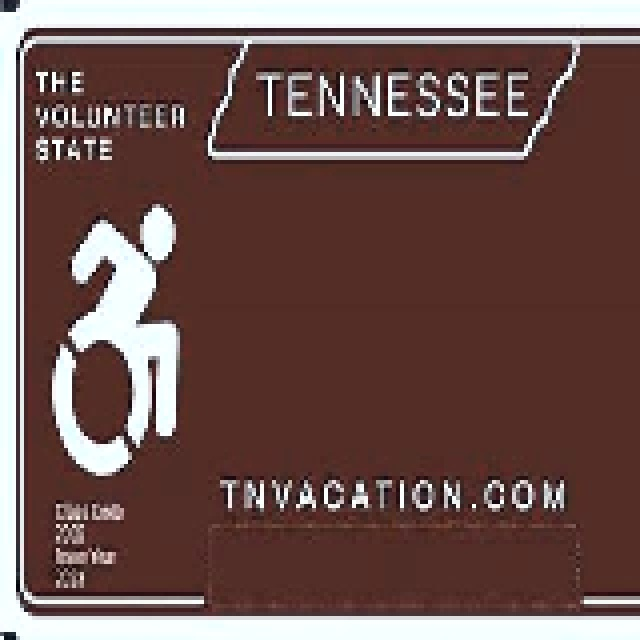ISA: (50, 205, 181, 474)
